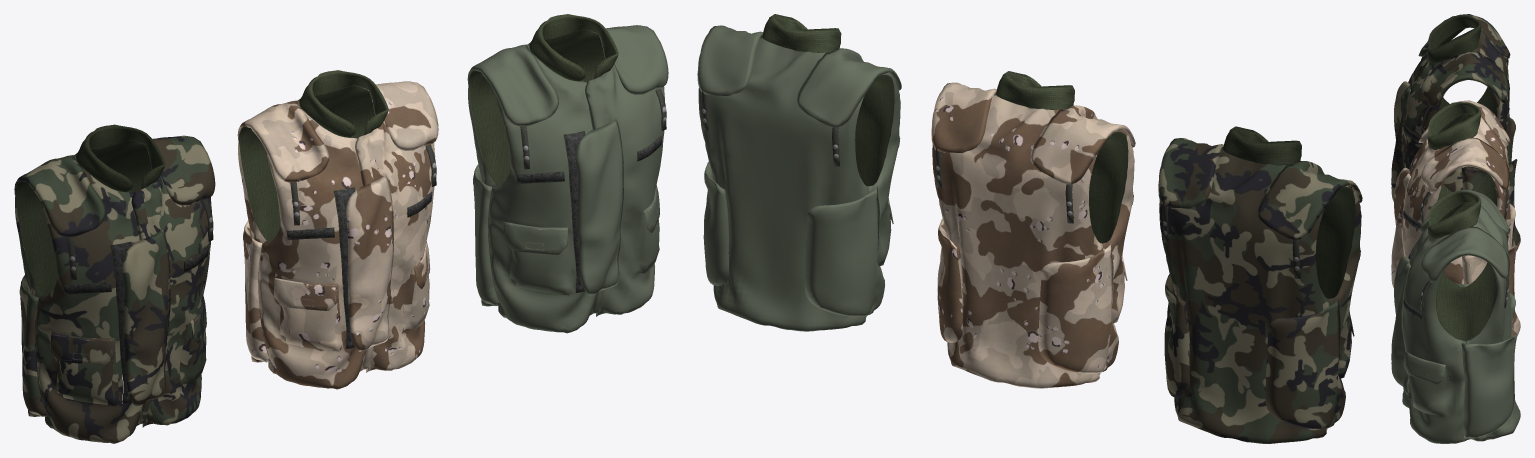
File: body_armor_flak_jacket_remaster.glb
3 views of the same model, side by side, from view 1: azimuth 30°, elevation 25°; view 2: azimuth 150°, elevation 25°; view 3: azimuth 270°, elevation 25° (orthographic). The views are drawn at different scales.
Parts seen in each view (by area): view 1: flack_jacket_low005, flack_jacket_low, flack_jacket_low008, pockets_low011, pockets_low006, pockets_low, flack_jacket_low004, flack_jacket_low001, flack_jacket_low007, flack_jacket_low002, flack_jacket_low006, flack_jacket_low003; view 2: flack_jacket_low005, flack_jacket_low, flack_jacket_low008, pockets_low, pockets_low006, pockets_low011, flack_jacket_low004, flack_jacket_low001, flack_jacket_low007, flack_jacket_low006, flack_jacket_low003, flack_jacket_low002; view 3: pockets_low006, flack_jacket_low005, pockets_low, pockets_low011, flack_jacket_low, flack_jacket_low004, flack_jacket_low008, flack_jacket_low006, flack_jacket_low003, flack_jacket_low002, flack_jacket_low001, flack_jacket_low007.
Part boxes in pixels (bbox=[...]): flack_jacket_low005: bbox=[468, 32, 664, 333]; flack_jacket_low: bbox=[238, 88, 435, 389]; flack_jacket_low008: bbox=[15, 143, 211, 443]; pockets_low011: bbox=[14, 135, 215, 416]; pockets_low006: bbox=[467, 25, 668, 305]; pockets_low: bbox=[237, 81, 438, 362]; flack_jacket_low004: bbox=[469, 29, 662, 292]; flack_jacket_low001: bbox=[239, 85, 432, 348]; flack_jacket_low007: bbox=[15, 140, 208, 403]; flack_jacket_low002: bbox=[299, 70, 388, 137]; flack_jacket_low006: bbox=[76, 124, 165, 192]; flack_jacket_low003: bbox=[529, 14, 618, 81]; flack_jacket_low005: bbox=[698, 35, 900, 331]; flack_jacket_low: bbox=[932, 92, 1134, 388]; flack_jacket_low008: bbox=[1159, 148, 1361, 443]; pockets_low: bbox=[931, 82, 1135, 373]; pockets_low006: bbox=[697, 25, 901, 316]; pockets_low011: bbox=[1158, 138, 1362, 428]; flack_jacket_low004: bbox=[760, 36, 900, 186]; flack_jacket_low001: bbox=[994, 93, 1133, 243]; flack_jacket_low007: bbox=[1316, 187, 1360, 298]; flack_jacket_low006: bbox=[1223, 126, 1301, 165]; flack_jacket_low003: bbox=[762, 14, 841, 52]; flack_jacket_low002: bbox=[996, 71, 1074, 109]; pockets_low006: bbox=[1391, 189, 1517, 438]; flack_jacket_low005: bbox=[1402, 206, 1520, 443]; pockets_low: bbox=[1391, 100, 1517, 321]; pockets_low011: bbox=[1391, 14, 1517, 236]; flack_jacket_low: bbox=[1402, 117, 1520, 336]; flack_jacket_low004: bbox=[1403, 202, 1496, 439]; flack_jacket_low008: bbox=[1402, 30, 1520, 250]; flack_jacket_low006: bbox=[1427, 15, 1481, 63]; flack_jacket_low003: bbox=[1427, 191, 1481, 238]; flack_jacket_low002: bbox=[1427, 102, 1481, 149]; flack_jacket_low001: bbox=[1403, 113, 1496, 229]; flack_jacket_low007: bbox=[1403, 26, 1496, 144].
Bounding box in the file's own units: 1.85 × 0.7828 × 0.4182.
Materials: 3 (3 with a texture image).
